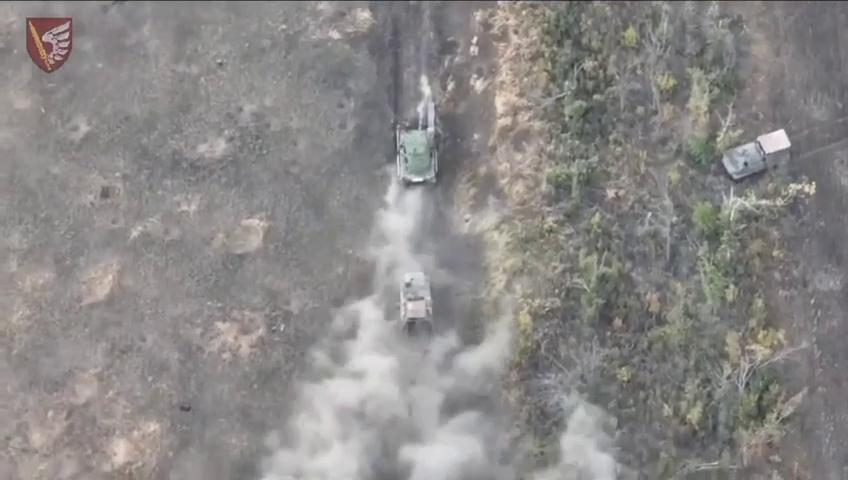tank: (721, 123, 792, 186), (392, 112, 444, 193), (393, 265, 440, 337)
